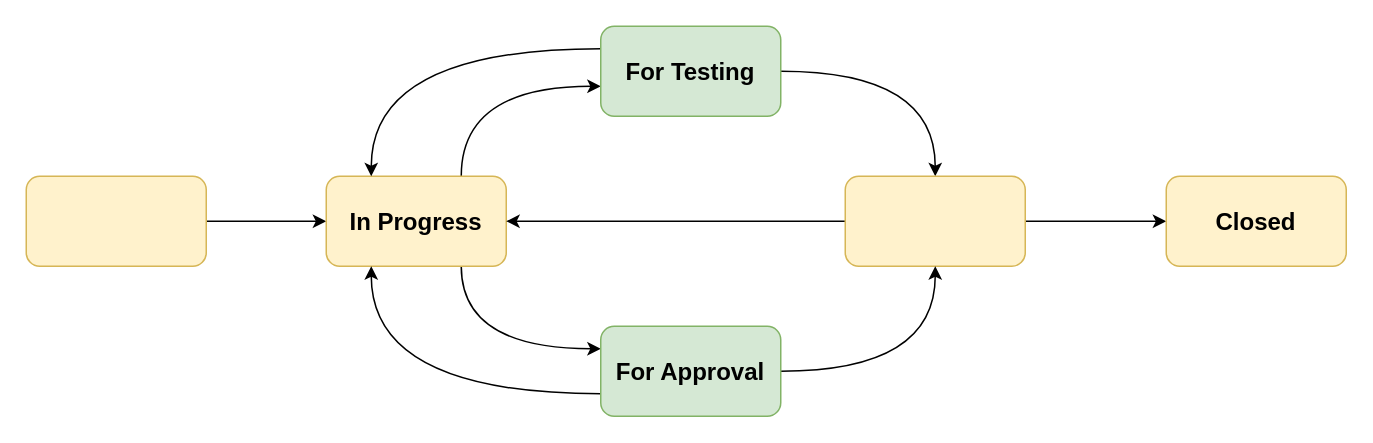
Image size: 1373x443. Some labels were removed from this diagram. Each missing label, with the centre of its shape:
New: [115,220]
Resolved: [934,220]
